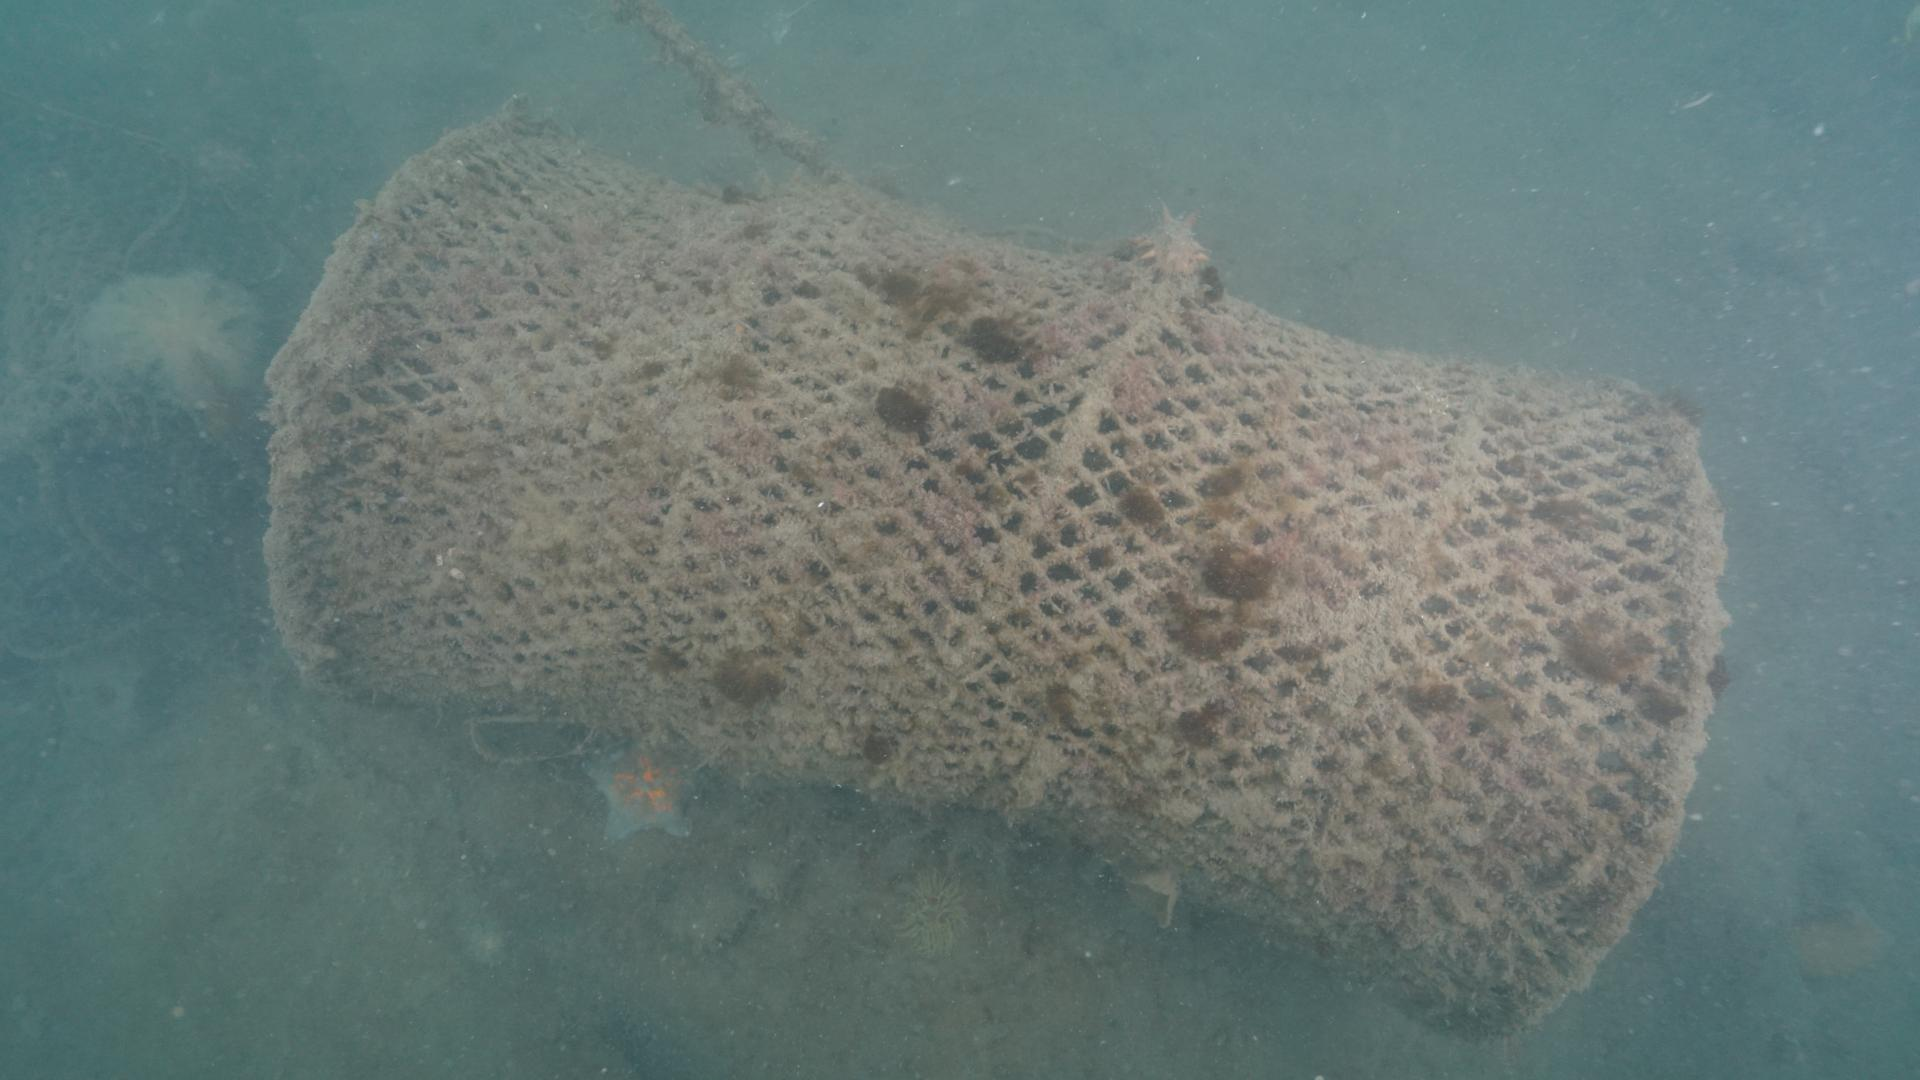spring fish trap: (252, 96, 1731, 1044)
